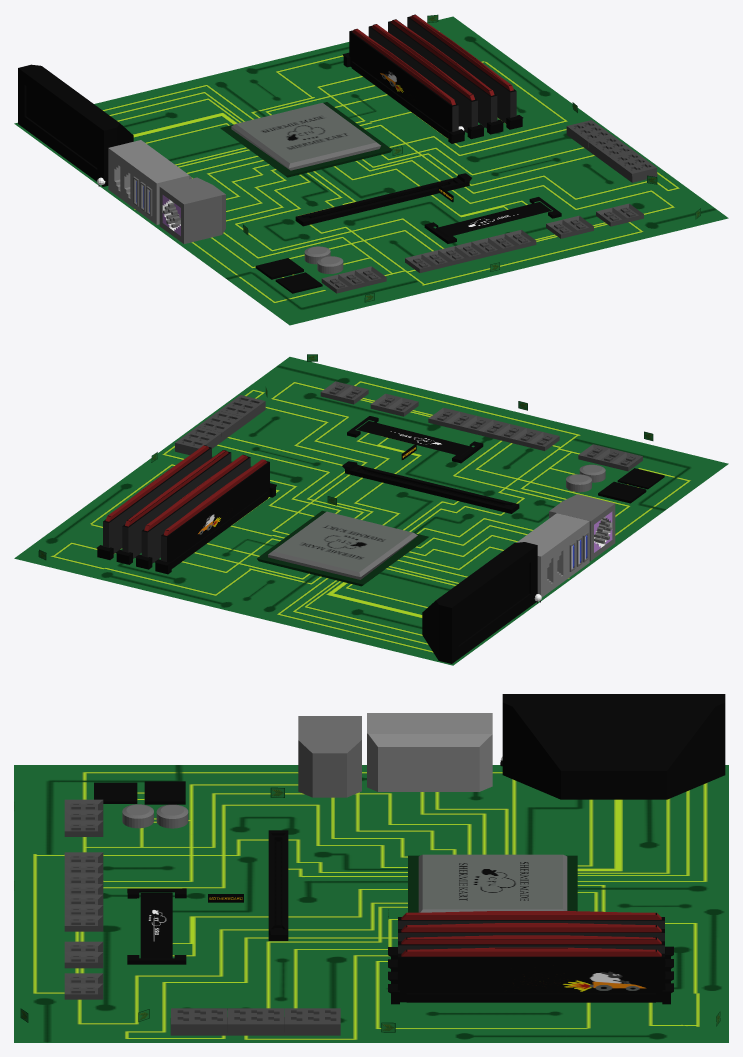
Rendered from MotherboardB.glb.
The picture shows the model from 3 angles, top to bottom: view 1: azimuth 30°, elevation 25°; view 2: azimuth 150°, elevation 25°; view 3: azimuth 270°, elevation 25°; orthographic projection. The views are drawn at different scales.
Visible parts, largest first — view 1: Plane, Ram, CPU, MorePorts, plug, htmlPorts, boxPort, ports, GraphicsPort, SSD, chips, ramSide (+1 smaller); view 2: Plane, Ram, MorePorts, CPU, plug, htmlPorts, ports, GraphicsPort, boxPort, SSD, chips, ramSide (+1 smaller); view 3: Plane, Ram, MorePorts, htmlPorts, CPU, plug, boxPort, ports, SSD, GraphicsPort, chips, CylinderThing.
Boxes of the visible parts, box(x1,y1,x2,y2) form: Plane: box(14, 16, 728, 325); Ram: box(342, 14, 523, 143); CPU: box(220, 102, 392, 177); MorePorts: box(18, 64, 133, 186); plug: box(321, 203, 643, 293); htmlPorts: box(108, 140, 191, 224); boxPort: box(159, 177, 225, 243); ports: box(566, 120, 657, 182); GraphicsPort: box(295, 173, 471, 226); SSD: box(424, 197, 561, 243); chips: box(255, 258, 322, 293); ramSide: box(351, 61, 448, 138); Plane: box(14, 357, 728, 665); Ram: box(96, 445, 276, 574); MorePorts: box(422, 542, 537, 663); CPU: box(257, 510, 428, 586); plug: box(320, 381, 642, 471); htmlPorts: box(516, 513, 589, 597); ports: box(175, 395, 265, 455); GraphicsPort: box(342, 461, 519, 513); boxPort: box(549, 494, 615, 560); SSD: box(347, 416, 483, 463); chips: box(598, 468, 664, 503); ramSide: box(171, 492, 267, 568); Plane: box(14, 765, 728, 1042); Ram: box(388, 911, 673, 1004); MorePorts: box(502, 694, 725, 799); htmlPorts: box(367, 713, 492, 791); CPU: box(408, 854, 577, 912); plug: box(64, 799, 103, 999); boxPort: box(298, 716, 361, 797); ports: box(170, 1008, 340, 1035); SSD: box(127, 888, 186, 964); GraphicsPort: box(268, 830, 288, 940); chips: box(94, 781, 185, 804); CylinderThing: box(122, 804, 188, 828).
Size of the model in its own units: 203 by 24.94 by 220.
Materials: 30 (16 with a texture image).
